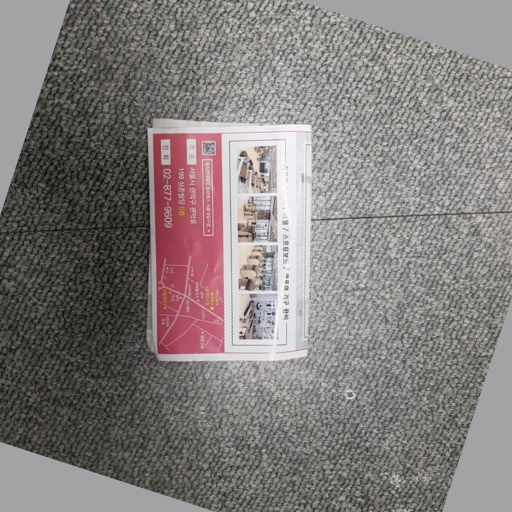Paper_2: (129, 107, 323, 373)
